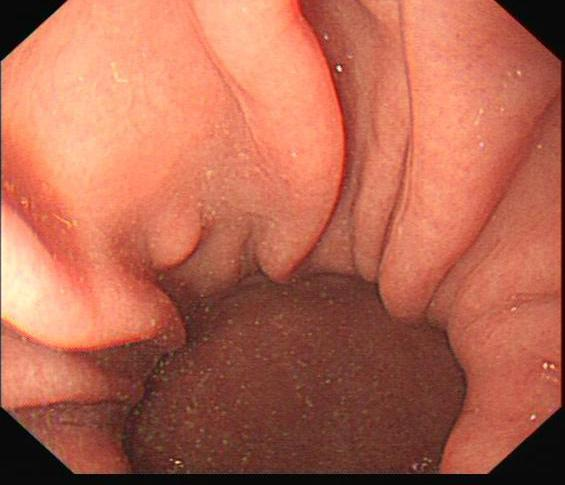Polyp: (145, 209, 203, 273)
